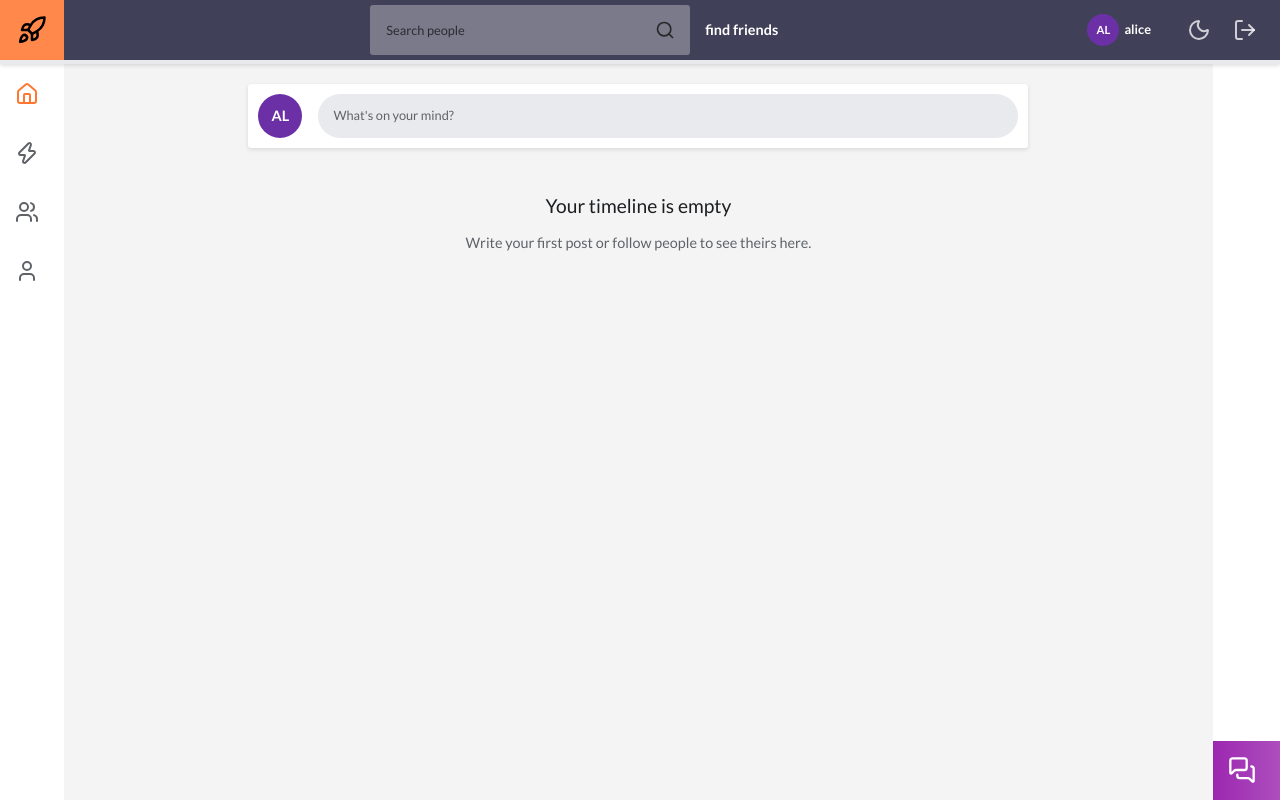
protected routes › logs out: tells the server, drops the token and shows the log-in form
Click the 3rd button named "Log out" at (1245, 30), box [1226,11,1264,49]
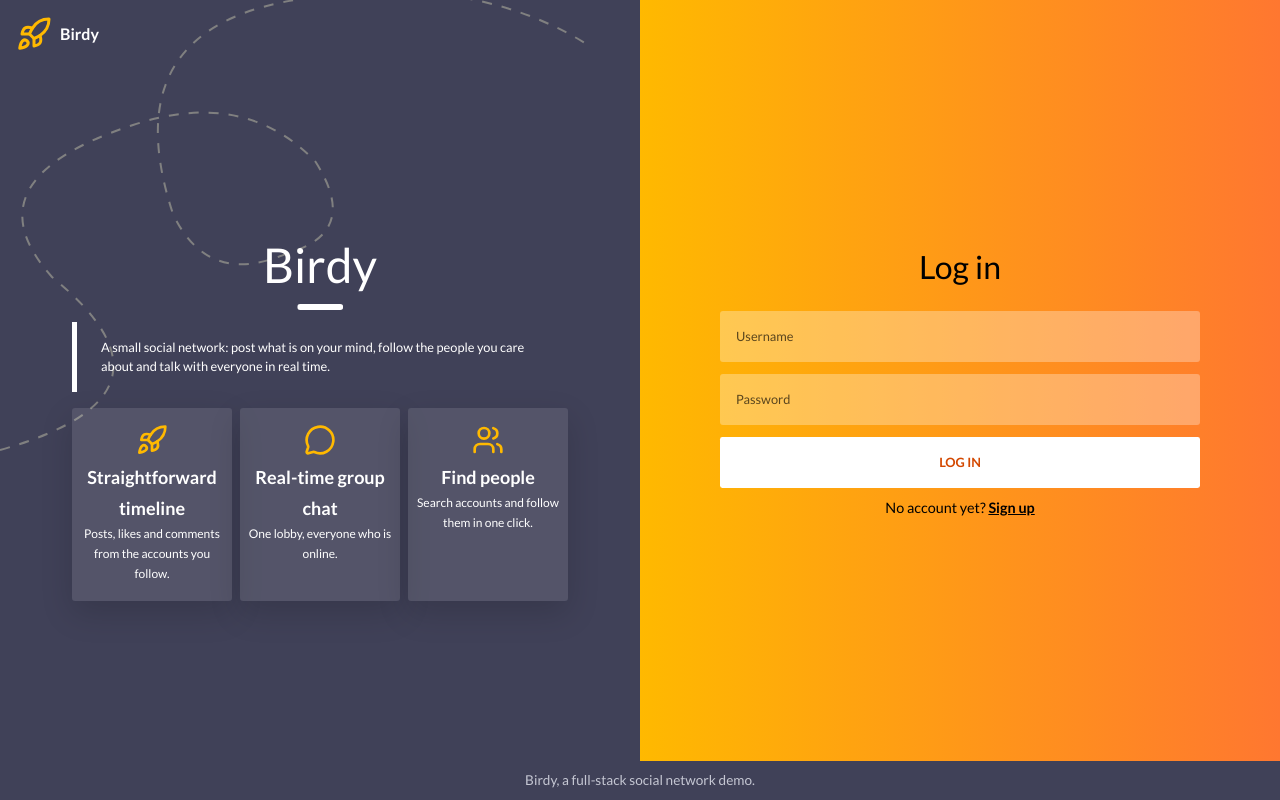
expect the heading "Log in" is shown: met, box [919,247,1001,286]
